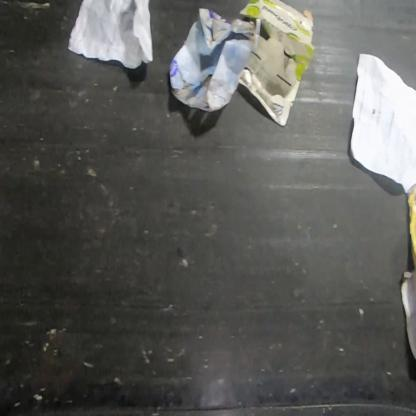cardboard: (237, 0, 316, 128)
